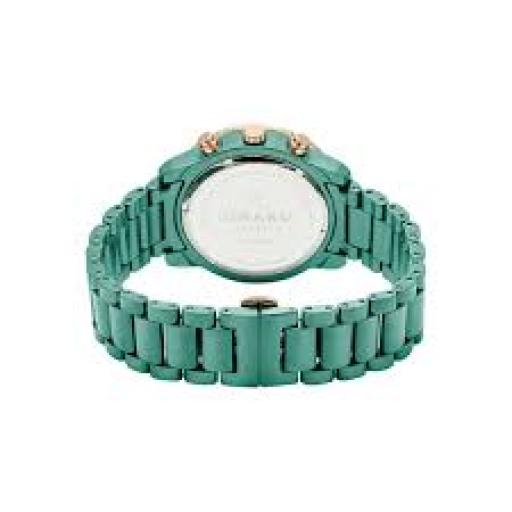KolSaati: (68, 99, 454, 421)
